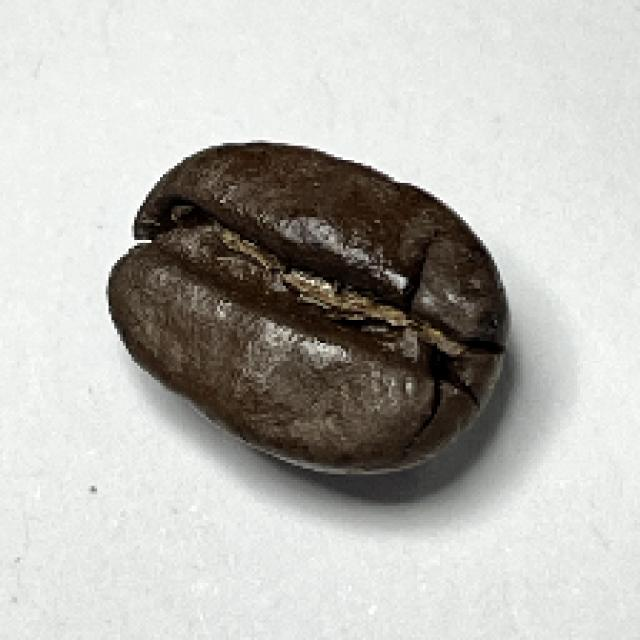bean: (100, 134, 514, 476)
